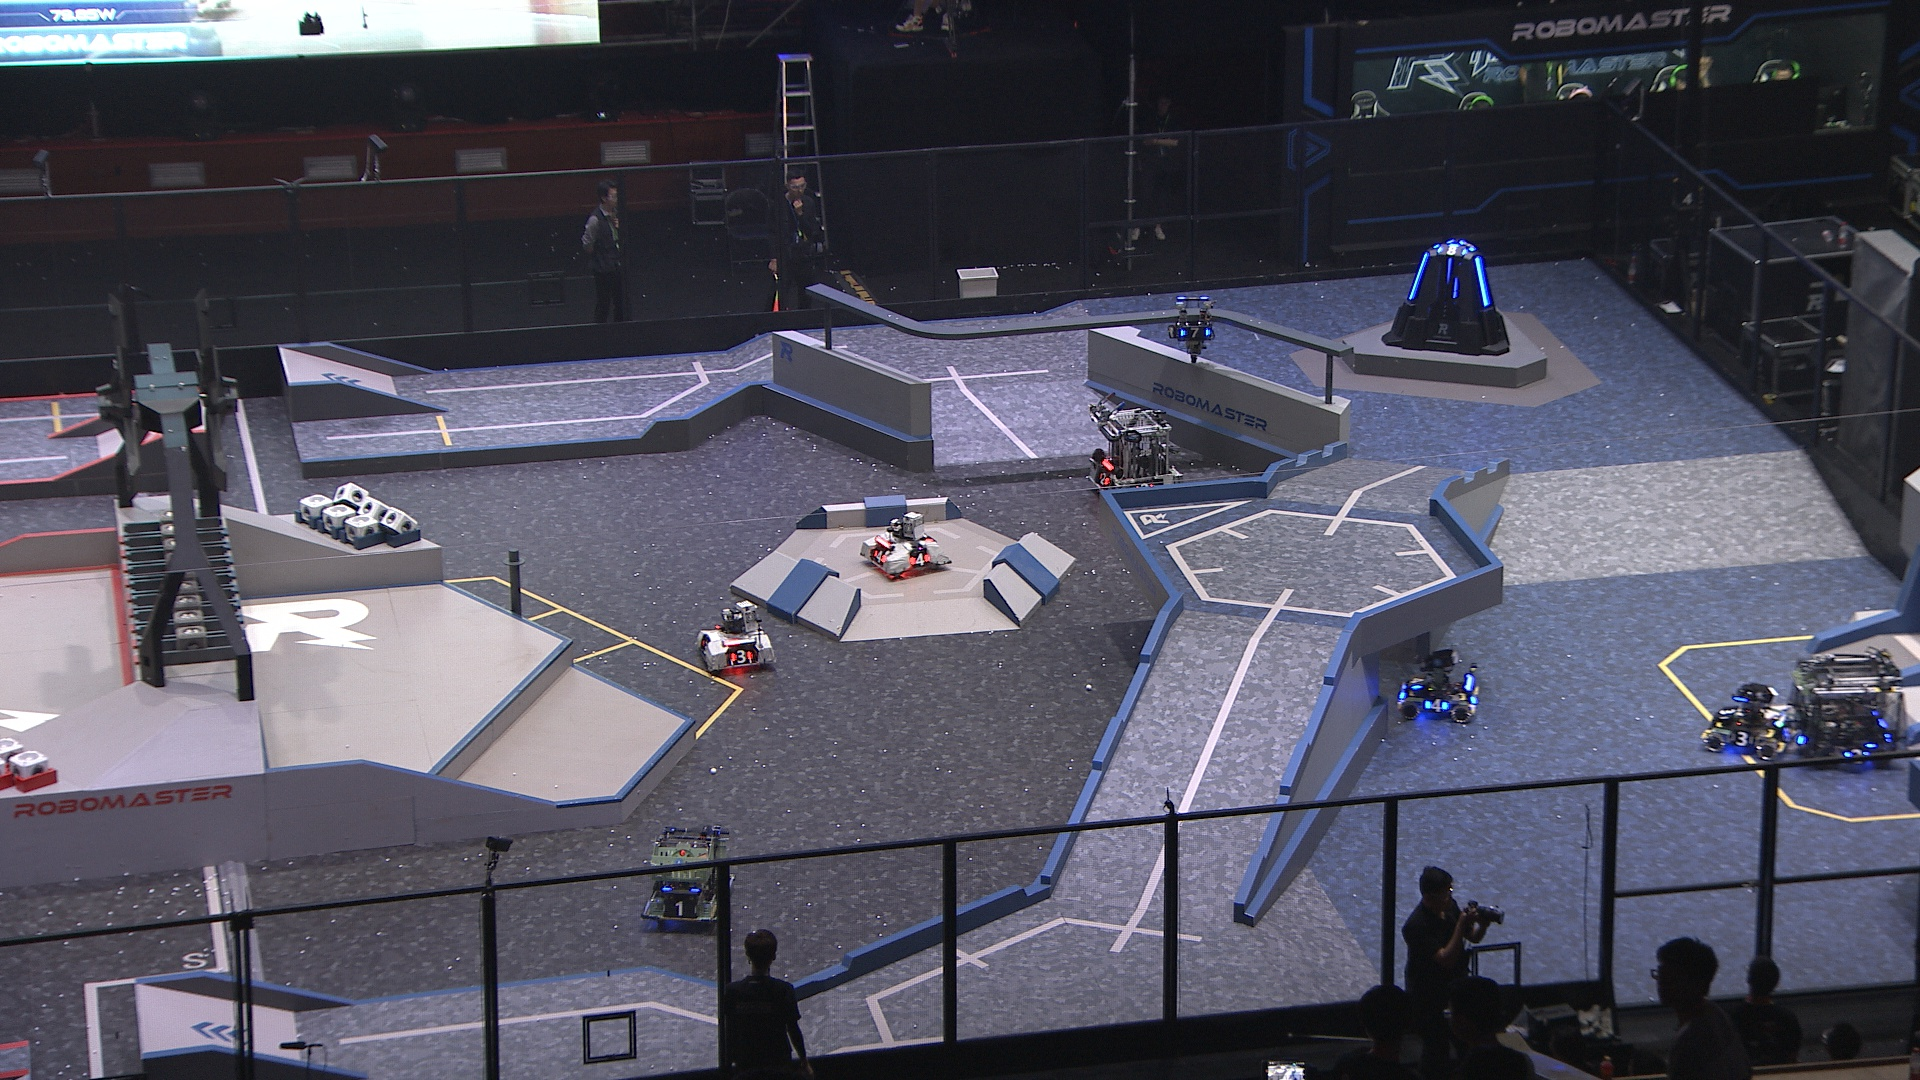armor: (1406, 252, 1432, 305), (1472, 255, 1490, 310), (661, 895, 695, 918), (1437, 240, 1470, 257), (1178, 327, 1212, 342), (1420, 698, 1451, 713), (1717, 704, 1737, 725), (1730, 731, 1756, 746), (731, 650, 754, 665), (907, 553, 931, 567), (1096, 469, 1112, 489), (1406, 674, 1424, 690), (1841, 746, 1869, 757), (870, 549, 889, 564), (1444, 258, 1452, 282), (1451, 278, 1460, 297)
base: (1379, 237, 1513, 357)
car: (1787, 647, 1908, 769), (638, 827, 736, 927), (1083, 406, 1182, 504), (1702, 683, 1799, 764), (1395, 647, 1480, 723), (694, 597, 778, 673), (858, 512, 949, 579)
watcher: (1164, 295, 1218, 367)
